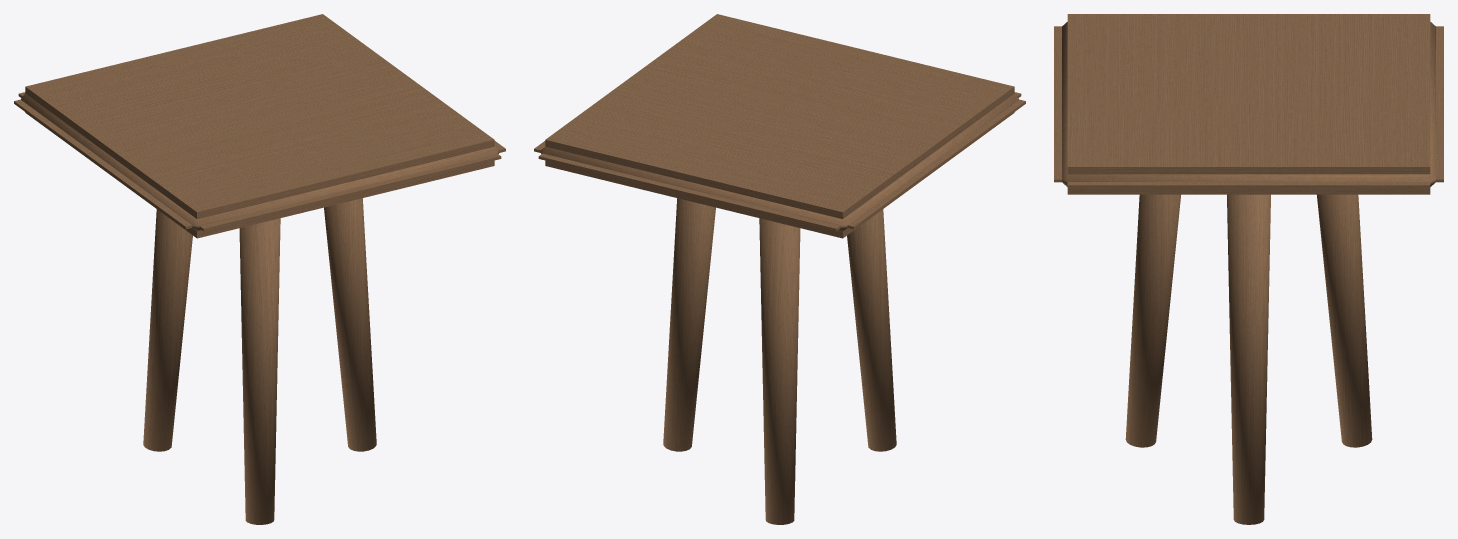
Rendered from traditional.side_table.gltf.
The picture shows the model from 3 angles, left to right: view 1: azimuth 30°, elevation 25°; view 2: azimuth 150°, elevation 25°; view 3: azimuth 270°, elevation 25°; orthographic projection. The views are drawn at different scales.
Parts seen in each view (by area): view 1: traditional.side_table.rounded-top; view 2: traditional.side_table.rounded-top; view 3: traditional.side_table.rounded-top.
Part boxes in pixels (left/top/right/bottom): traditional.side_table.rounded-top: left=14, top=14, right=505, bottom=524; traditional.side_table.rounded-top: left=534, top=14, right=1025, bottom=524; traditional.side_table.rounded-top: left=1054, top=14, right=1443, bottom=524.
Size of the model in its own units: 0.46 by 0.4915 by 0.46.
Materials: 1 (1 with a texture image).
